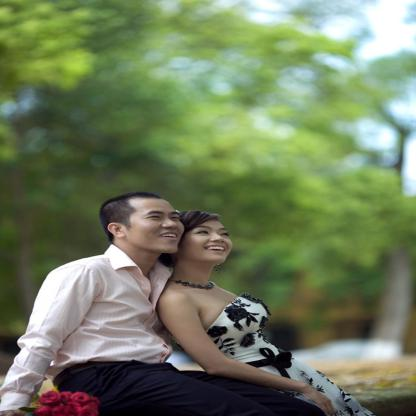face: (180, 214, 235, 265), (137, 200, 187, 256)
